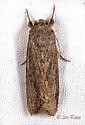army worm adult: (13, 5, 77, 120)
